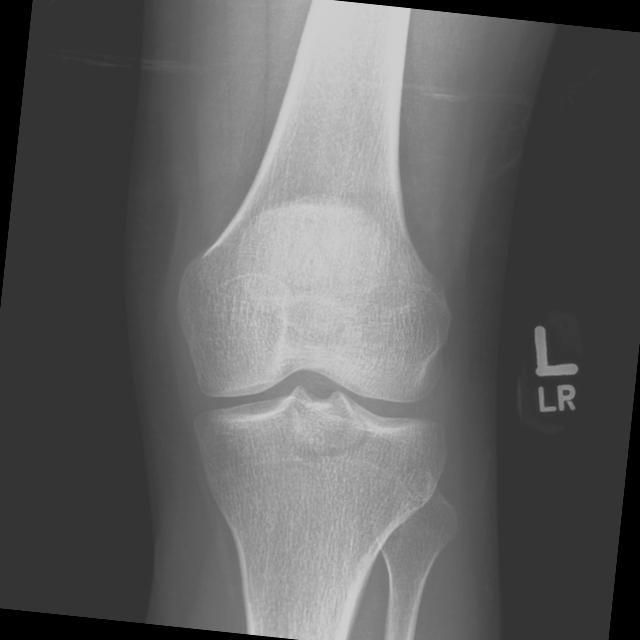Avlusion Fracture: (410, 407, 482, 542)
